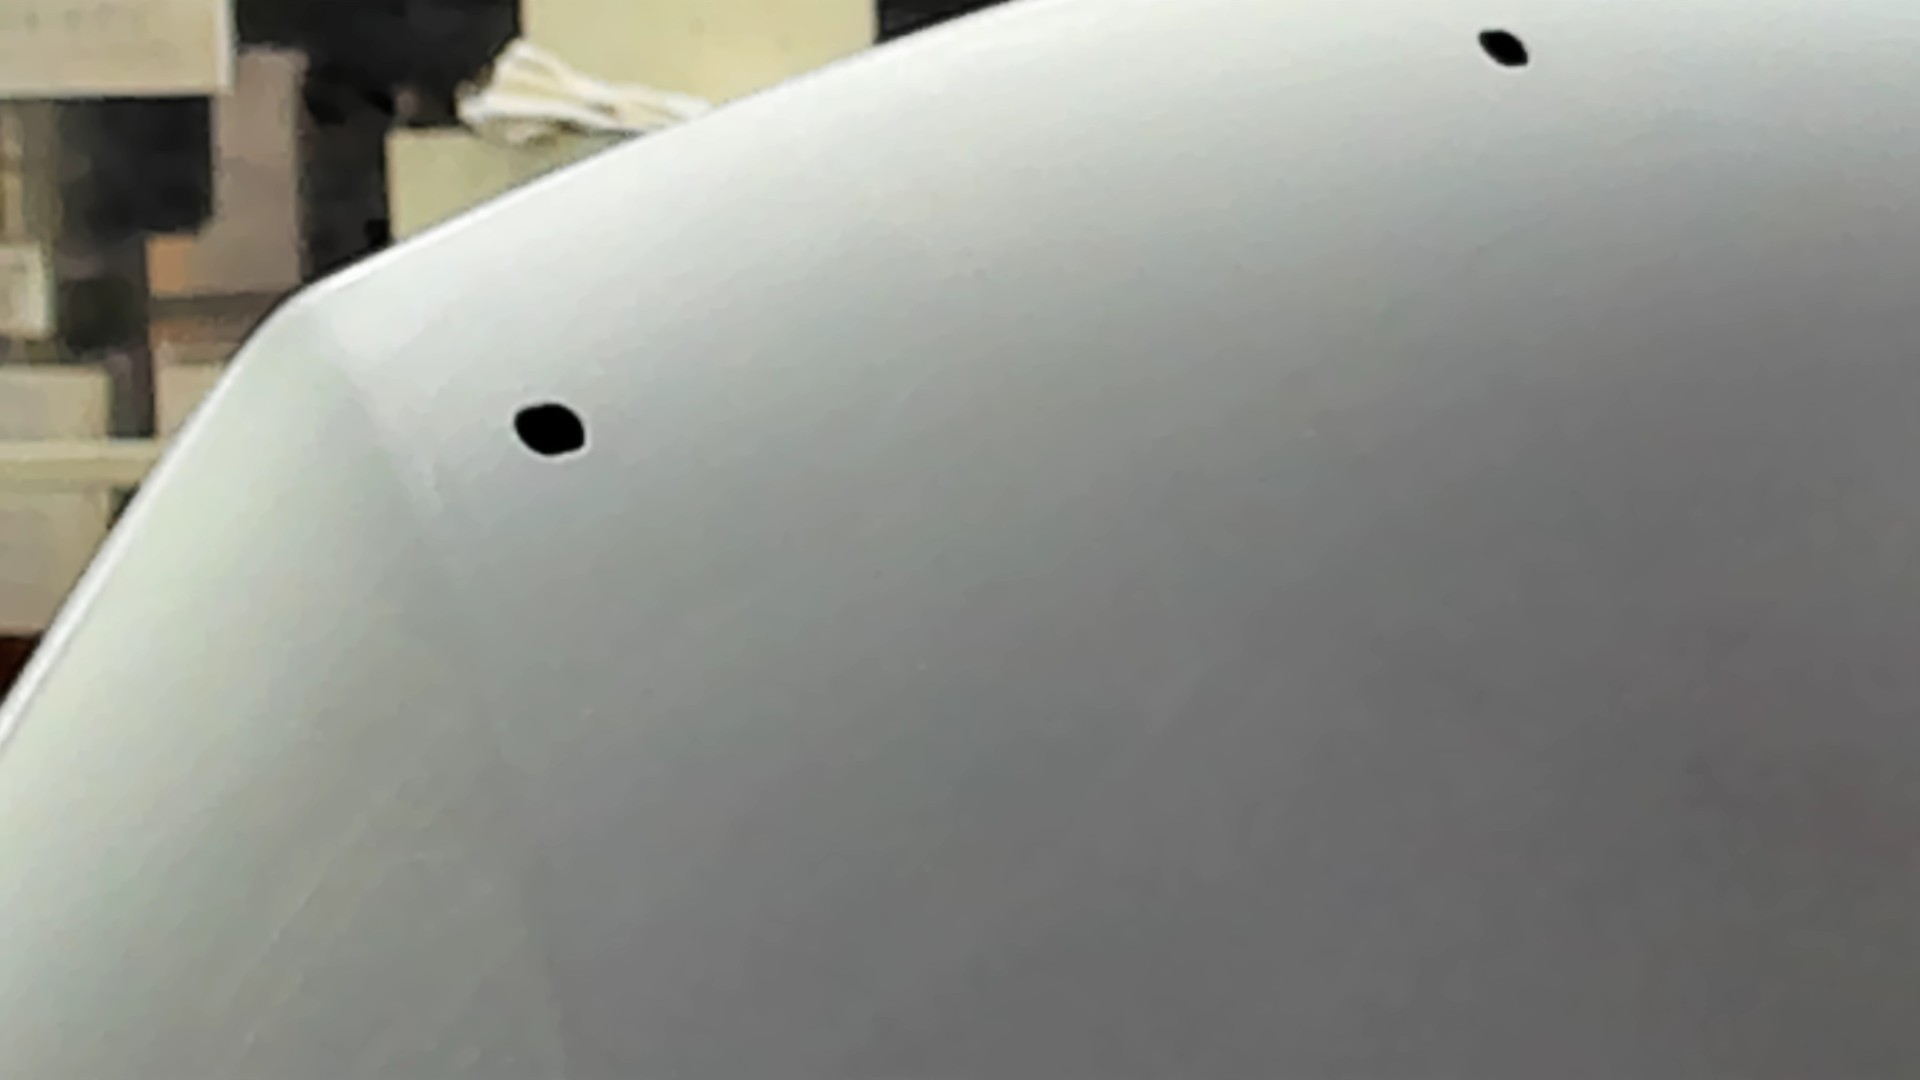amorfo: (505, 401, 596, 464), (1470, 24, 1534, 73)
